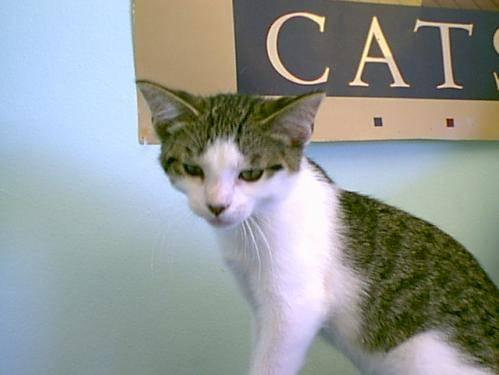cat: (139, 81, 498, 374)
